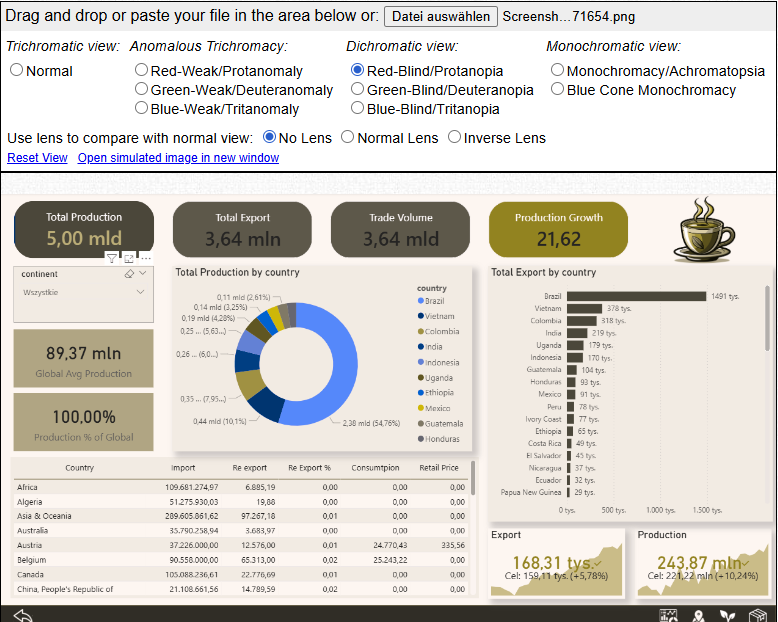

Layout of this report page (visuals, bound fields, positions):
{"tool":"powerbi","page":{"name":"Dashboard","canvas":[1280,720],"ordinal":0},"visuals":[{"type":"shape","box":[0,679.5,1280.8,40.5],"z":0},{"type":"actionButton","box":[1029.9,679.7,49.3,40],"z":1000},{"type":"actionButton","box":[1128.5,679.1,49.3,39.3],"z":2000},{"type":"actionButton","box":[1079.2,679.7,49.3,40],"z":3000},{"type":"actionButton","box":[1223.2,679.7,49.3,40],"z":4000},{"type":"actionButton","box":[0,680,75,40],"z":5000},{"type":"cardVisual","fields":{"Data":["Measures Table.Total Production","Measures Table.Total Export Volume","Measures Table.Trade Volume","Measures Table.Global Avg Production"]},"box":[18,0,1027.9,120],"z":6000},{"type":"image","box":[1077.5,0,170,120],"z":7000},{"type":"tableEx","fields":{"Values":["Fact_Importing_Countries.country","Sum(Fact_Importing_Countries.import)","Sum(Fact_Importing_Countries.re_export)","Sum(Fact_Importing_Countries.Re Export %)","Sum(Fact_Importing_Countries.disappearance)","Sum(Fact_Importing_Countries.retail_price)"]},"box":[17.5,435,772.5,232.5],"z":8000},{"type":"donutChart","title":"Total Production by country","fields":{"Category":["Fact_Exporting_Countries.country"],"Y":["Measures Table.Total Production"]},"box":[283.9,120,495,305.6],"z":9000},{"type":"kpi","title":"Production (last year)","fields":{"Goal":["Measures Table.Production Last Year"],"Indicator":["Measures Table.Total Production"],"TrendLine":["Dim_Date.year"]},"box":[1047.1,552.9,225.7,115.7],"z":10000},{"type":"clusteredBarChart","title":"Total Export by country","fields":{"Category":["Dim_Countries.country"],"Y":["Sum(Fact_Exporting_Countries.export)"]},"box":[805,120,470,421.7],"z":11000},{"type":"slicer","fields":{"Values":["Dim_Countries.continent"]},"box":[22.2,120,232.2,73],"z":12000},{"type":"gauge","fields":{"Y":["Measures Table.Production % of Global"]},"box":[22,249.5,230.8,142.9],"z":14000},{"type":"kpi","title":"Export (last year)","fields":{"Goal":["Measures Table.Export Last Year"],"Indicator":["Measures Table.Total Export Volume"],"TrendLine":["Dim_Date.year"]},"box":[805.7,552.9,226,115.7],"z":15000},{"type":"actionButton","box":[1177.9,681.1,45.3,35.3],"z":16000}]}

Visuals, with their boxes on the page's 1280x720 design canvas (x1, y1, x2, y2). These are canvas units, not pixel positions in the 778x622 screenshot, which may show the page scaled, cropped or inside an application window:
shape: l=0, t=680, r=1281, b=720
actionButton: l=1030, t=680, r=1079, b=720
actionButton: l=1128, t=679, r=1178, b=718
actionButton: l=1079, t=680, r=1128, b=720
actionButton: l=1223, t=680, r=1272, b=720
actionButton: l=0, t=680, r=75, b=720
cardVisual - Measures Table.Total Production x Measures Table.Total Export Volume: l=18, t=0, r=1046, b=120
image: l=1078, t=0, r=1248, b=120
tableEx - Fact_Importing_Countries.country x Sum(Fact_Importing_Countries.import): l=18, t=435, r=790, b=668
"Total Production by country" donutChart: l=284, t=120, r=779, b=426
"Production (last year)" kpi: l=1047, t=553, r=1273, b=669
"Total Export by country" clusteredBarChart: l=805, t=120, r=1275, b=542
slicer - Dim_Countries.continent: l=22, t=120, r=254, b=193
gauge - Measures Table.Production % of Global: l=22, t=250, r=253, b=392
"Export (last year)" kpi: l=806, t=553, r=1032, b=669
actionButton: l=1178, t=681, r=1223, b=716
